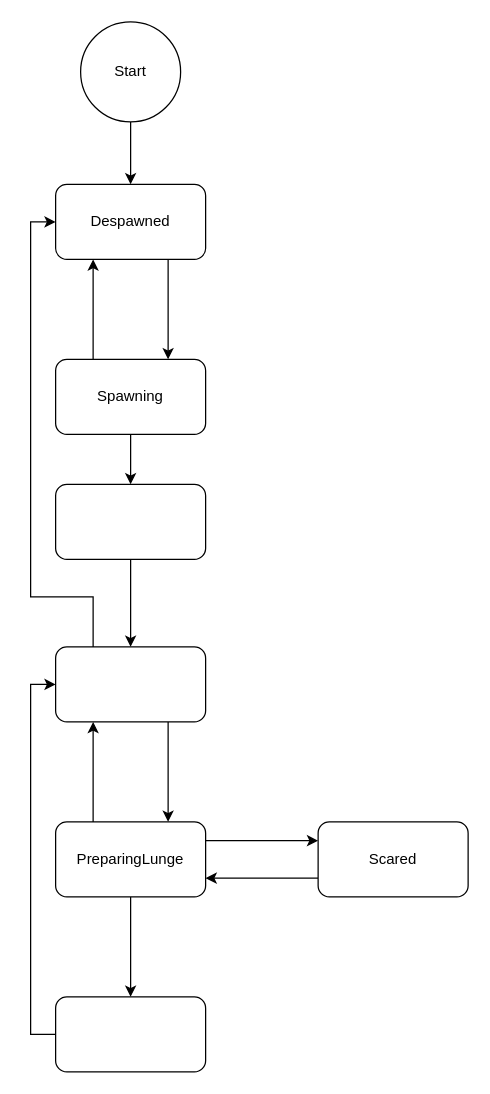
This 490x1094 diagram has some shape labels left out. Here are the shapes that lost their labels. From the top down, the box of each, then its label:
(54, 483, 206, 559): UnseenByCamera
(54, 646, 206, 722): Idling
(54, 996, 206, 1072): Lunging
